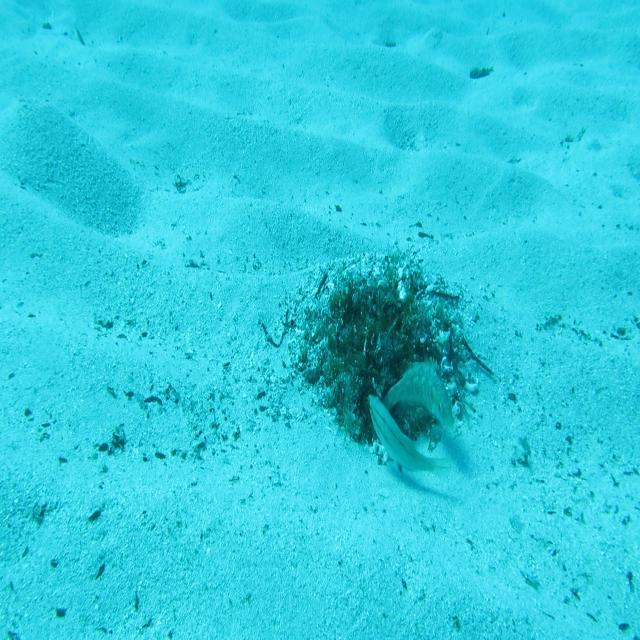DAN_CIRC: (381, 354, 455, 432)
core_nest: (353, 294, 395, 345)
female: (368, 391, 453, 484)
nest: (279, 232, 487, 475)
vegetation: (466, 63, 494, 81)
